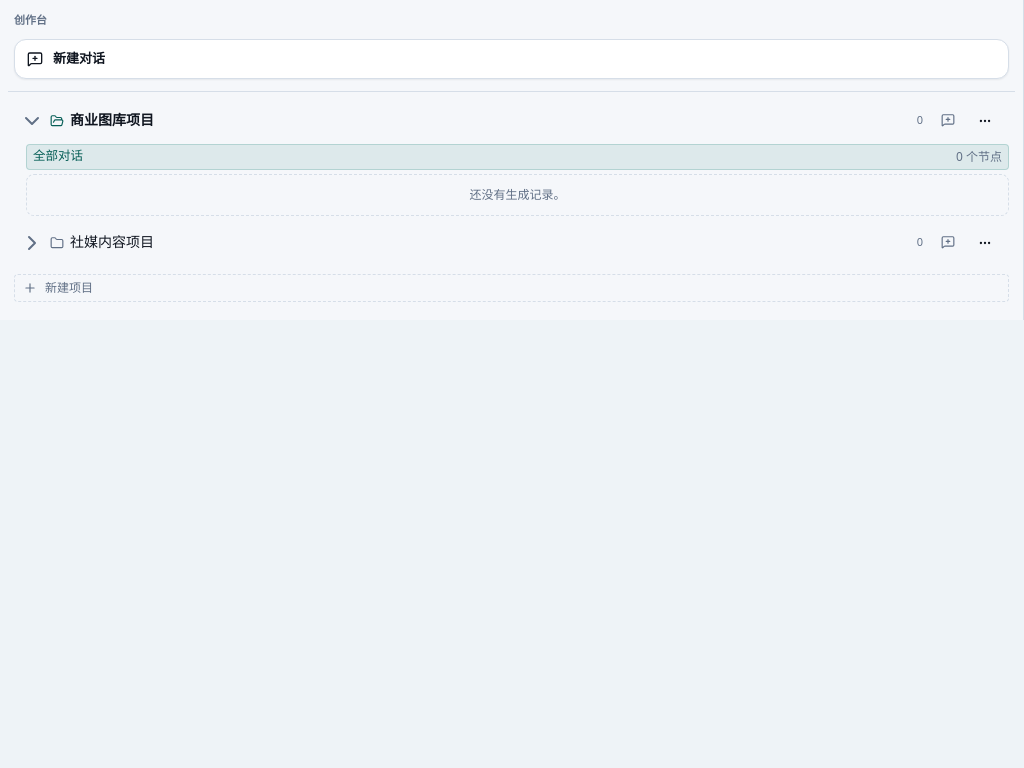
Test: ProjectSidebar CRUD UI › shows a placeholder toast for not-yet-implemented kebab items
What coordinates should you click on to do the following:
click the 1st button named "项目操作"
I would click on:
 (985, 120)
Its box is [967,102,1003,138].
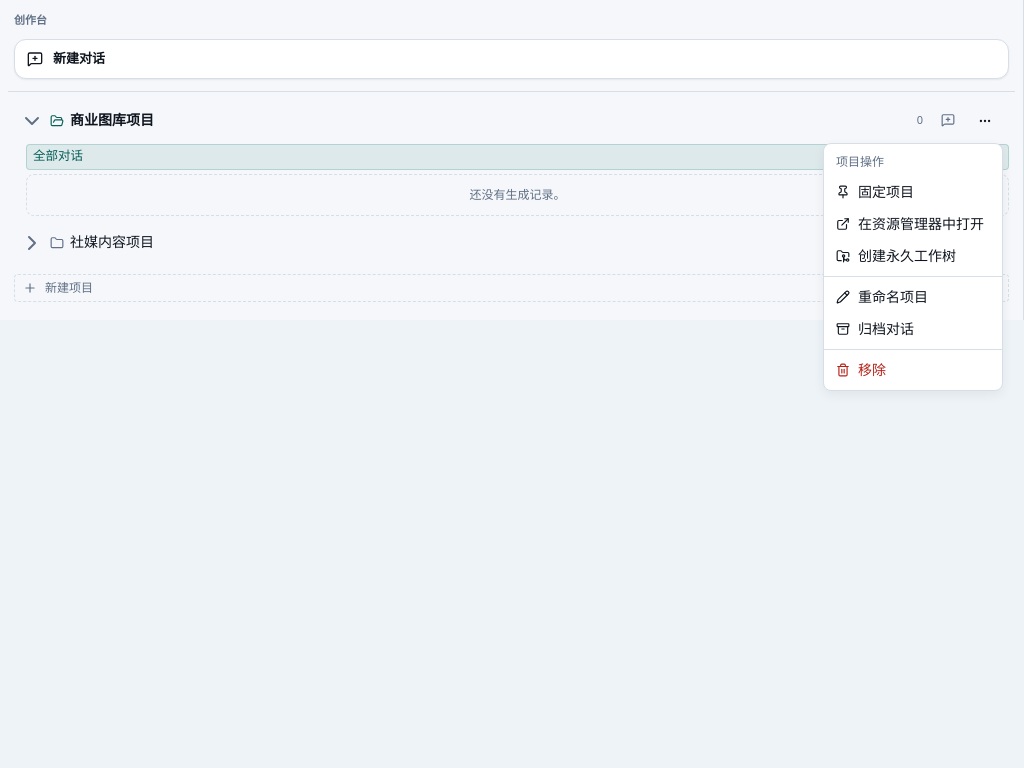
What coordinates should you click on to do the following:
click the menu item with test id "project-kebab-pin"
I would click on:
 (875, 192)
Its box is [836,182,914,201].
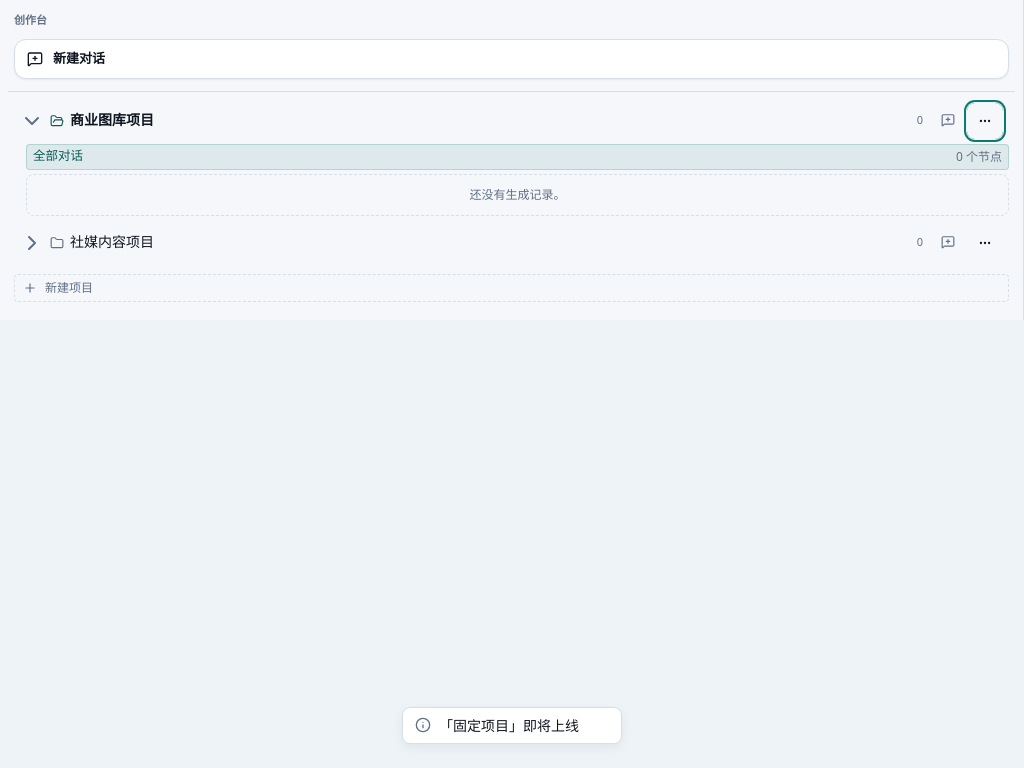
Result: the text "「固定项目」即将上线" is shown at [439,716,579,735]
